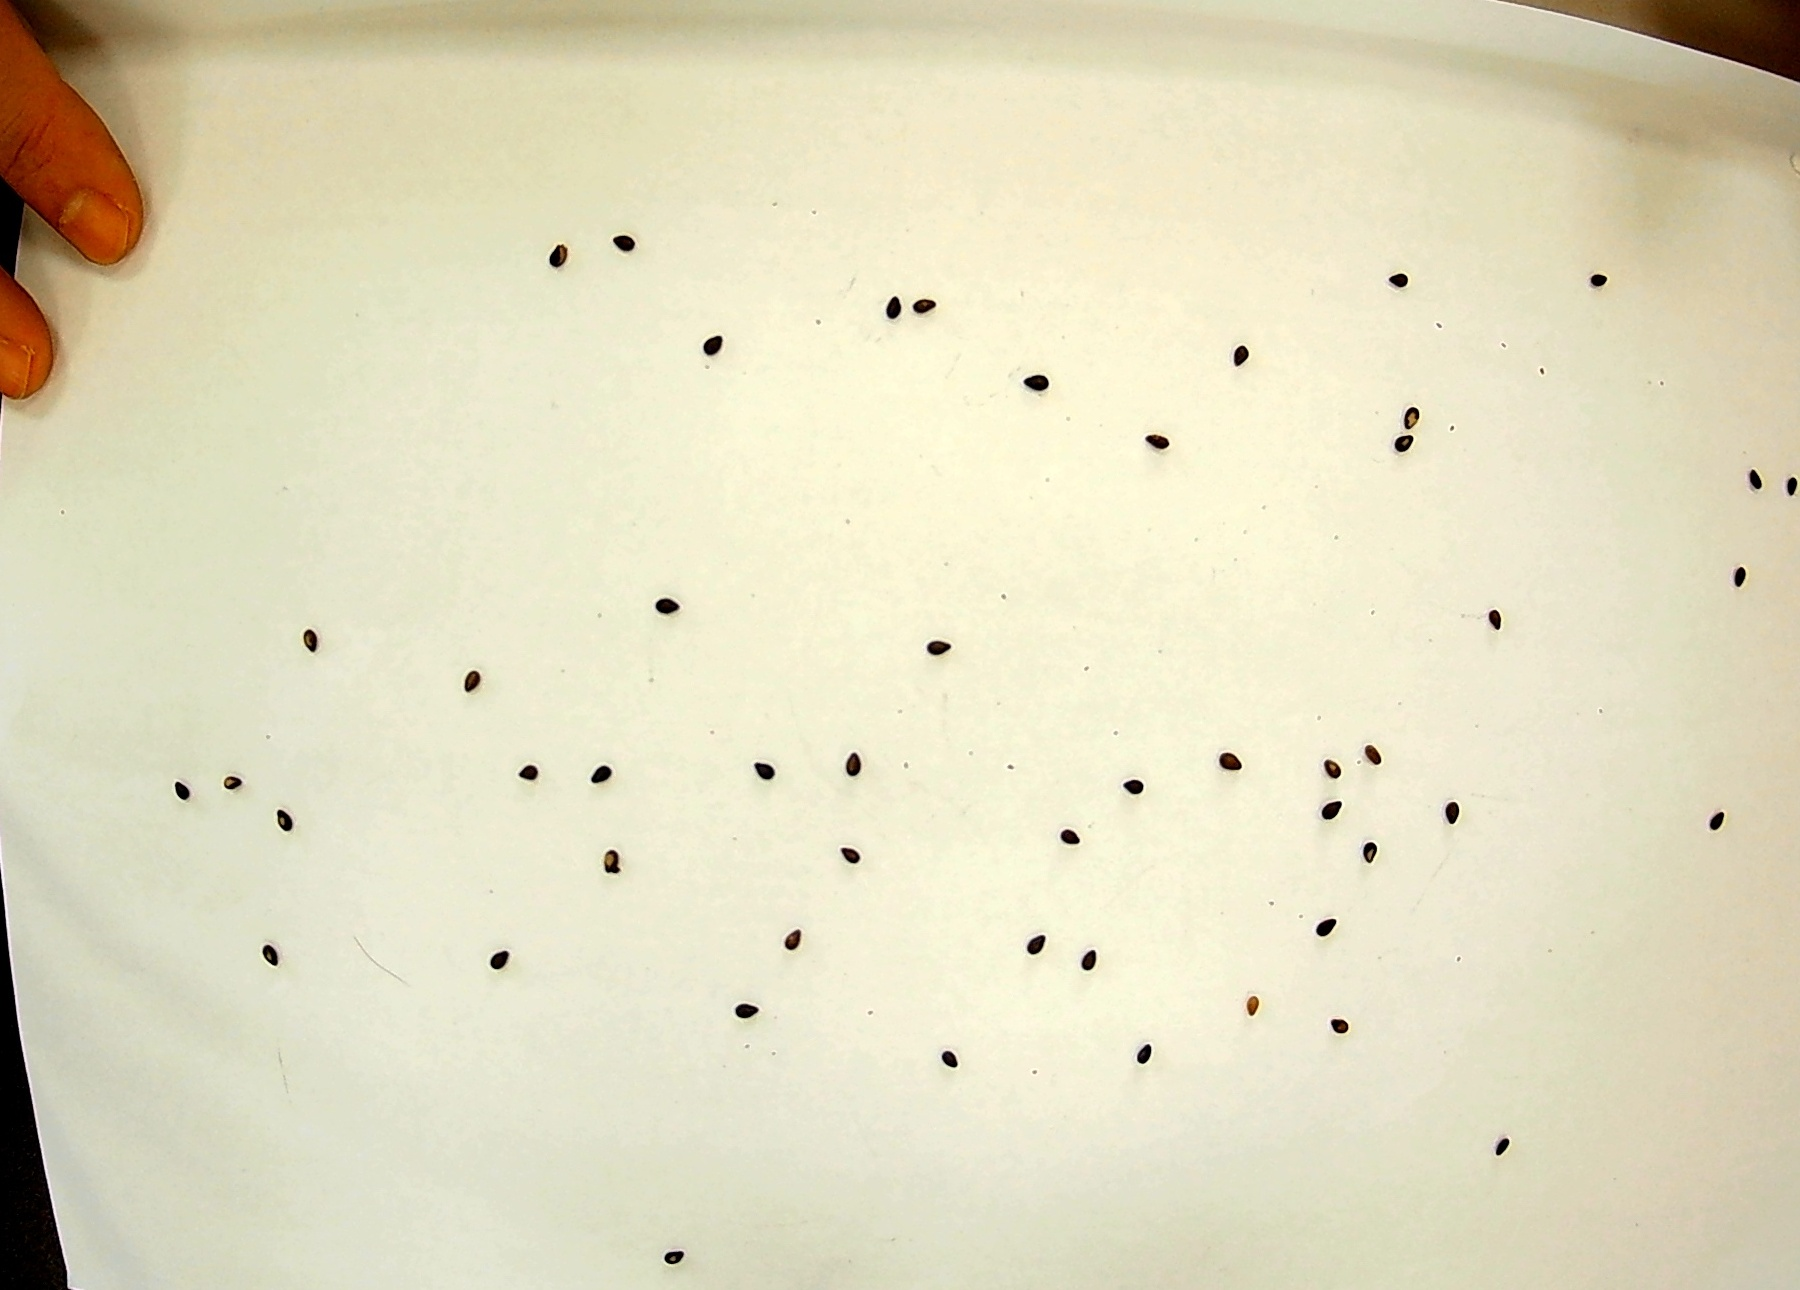sesami: (613, 221, 645, 260), (587, 754, 620, 793), (742, 746, 774, 785), (841, 746, 873, 785), (922, 628, 954, 667), (1146, 423, 1178, 462), (1220, 334, 1252, 373), (1734, 457, 1767, 496), (1427, 787, 1460, 826), (1321, 1004, 1353, 1043), (834, 833, 867, 873), (1127, 1030, 1160, 1069), (693, 328, 724, 367), (543, 239, 573, 278), (293, 623, 324, 662), (218, 772, 248, 811), (165, 768, 195, 807), (261, 799, 292, 838), (255, 928, 286, 967), (488, 942, 519, 981), (508, 748, 539, 787), (458, 662, 488, 701), (647, 577, 678, 616), (907, 276, 938, 316), (873, 281, 904, 320), (1019, 366, 1049, 405), (1400, 387, 1430, 426), (1401, 419, 1432, 458), (1380, 261, 1411, 300), (1592, 253, 1623, 292), (1769, 464, 1800, 503), (1726, 549, 1757, 588), (1695, 810, 1726, 849), (1471, 596, 1501, 635), (1482, 1122, 1513, 1162), (1310, 907, 1341, 947), (1362, 833, 1393, 873), (1320, 794, 1351, 833), (1312, 747, 1342, 786), (1355, 732, 1386, 771), (1201, 743, 1232, 782), (1116, 769, 1147, 808), (1055, 820, 1086, 859), (769, 914, 800, 954), (728, 993, 759, 1032), (661, 1231, 692, 1270), (939, 1037, 970, 1076), (1019, 920, 1049, 959), (1073, 933, 1104, 972), (1250, 981, 1281, 1021), (601, 838, 632, 875)
